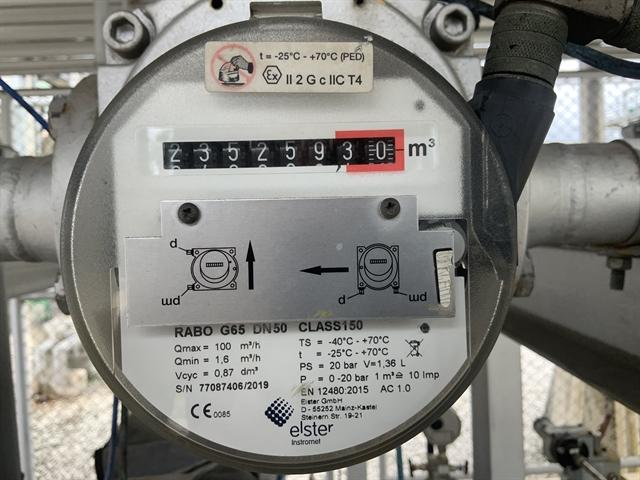analog_dial: (157, 126, 410, 182)
